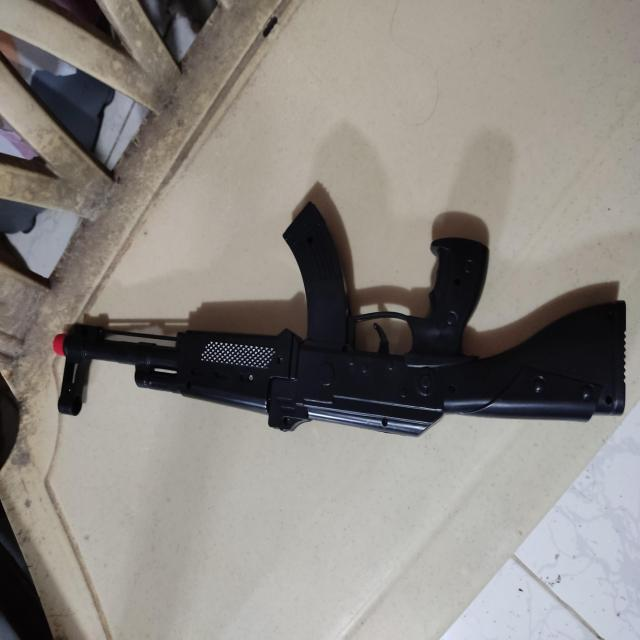rifle: (54, 206, 627, 435)
